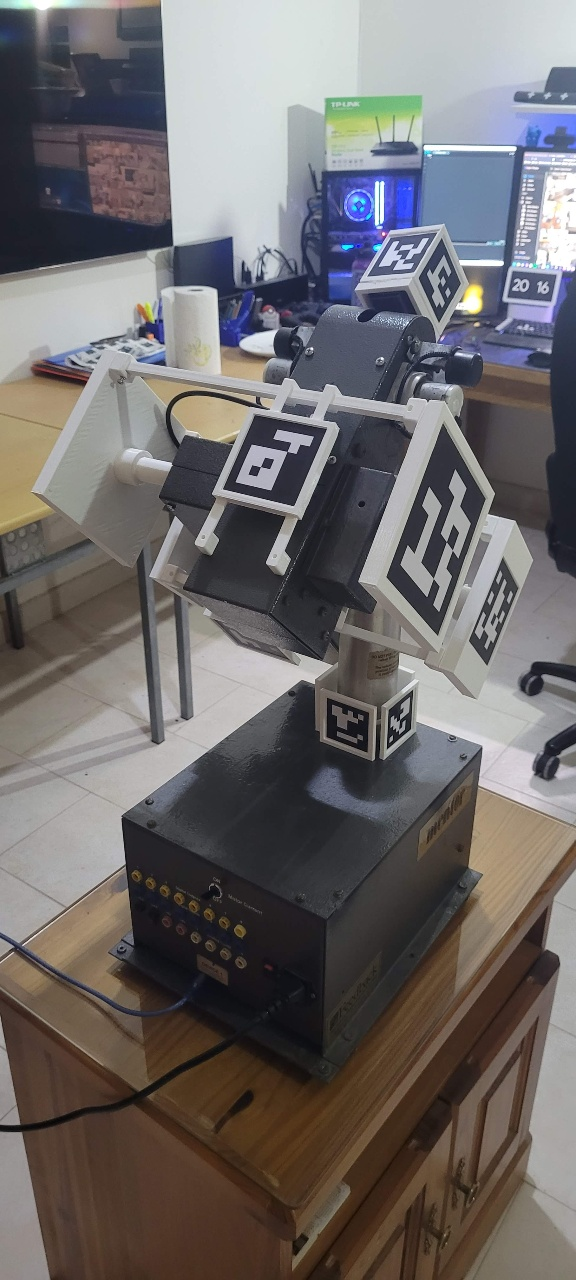Robot: (30, 223, 537, 763)
